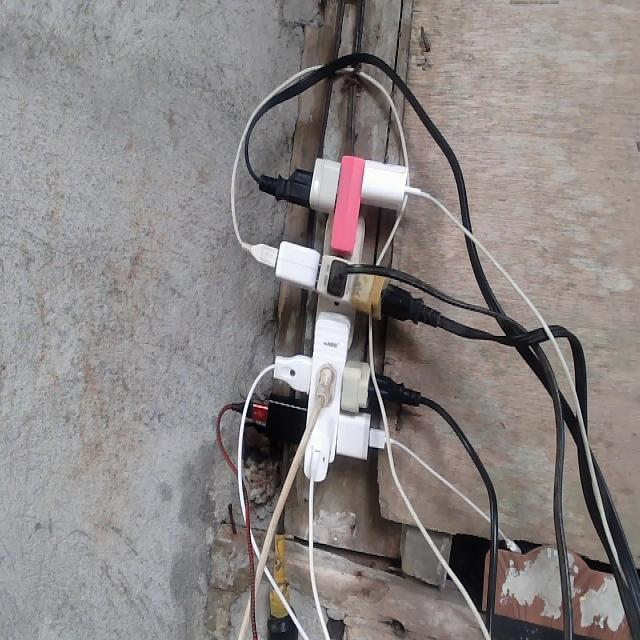-: (256, 153, 413, 484)
